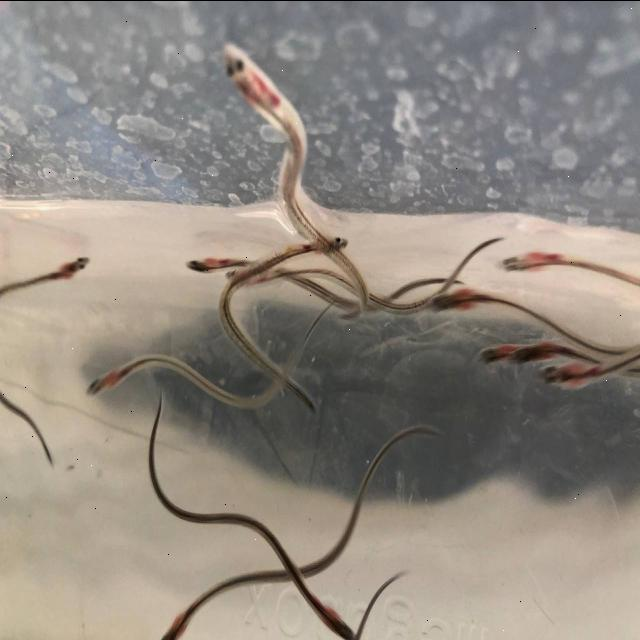glass_eel: (204, 38, 304, 140), (542, 356, 602, 402), (294, 220, 352, 262), (84, 358, 138, 402), (426, 279, 486, 316), (496, 246, 564, 276), (472, 335, 520, 375), (508, 335, 562, 369), (314, 599, 358, 640), (48, 249, 92, 286), (182, 244, 230, 276), (223, 263, 263, 292), (160, 607, 188, 640)
